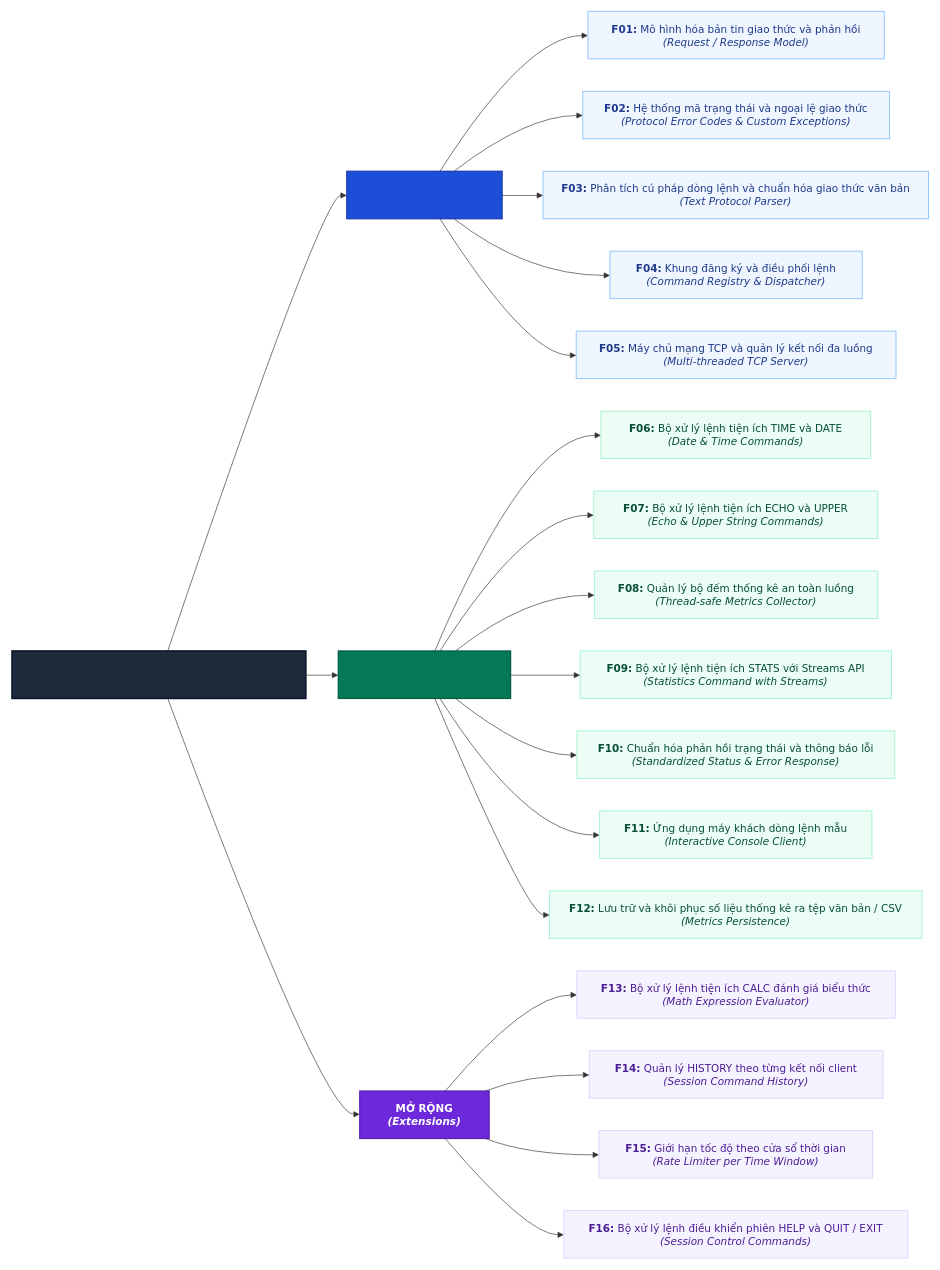
This 940x1270 diagram has some shape labels left out. The shapes that lost their labels are listed below. From the top down, each one's box as (x1, y1, x2, y2) in pixels, then its label:
(346, 170, 502, 219): PHẦN LÕI (Core Framework)
(11, 650, 306, 699): HỆ THỐNG MÁY CHỦ DỊCH VỤ DÒNG LỆNH (Command-Line Service Server - Đ31)
(337, 650, 511, 699): PHẢI LÀM (Mandatory Business)
